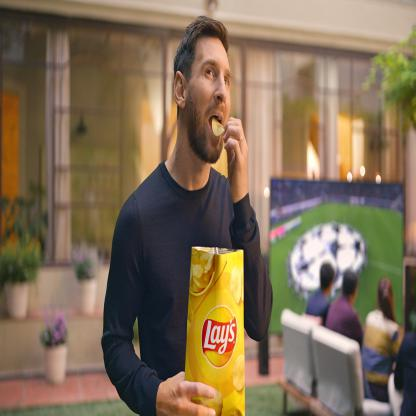potatochip: (184, 240, 250, 416)
